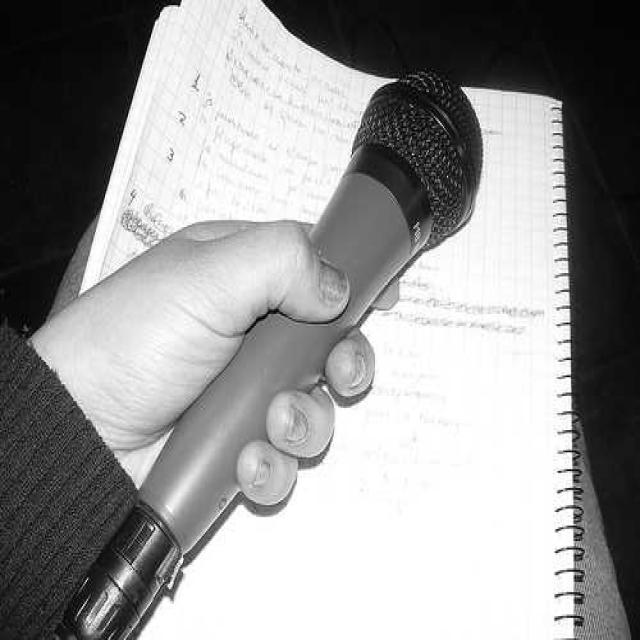microphone: (57, 64, 476, 636)
